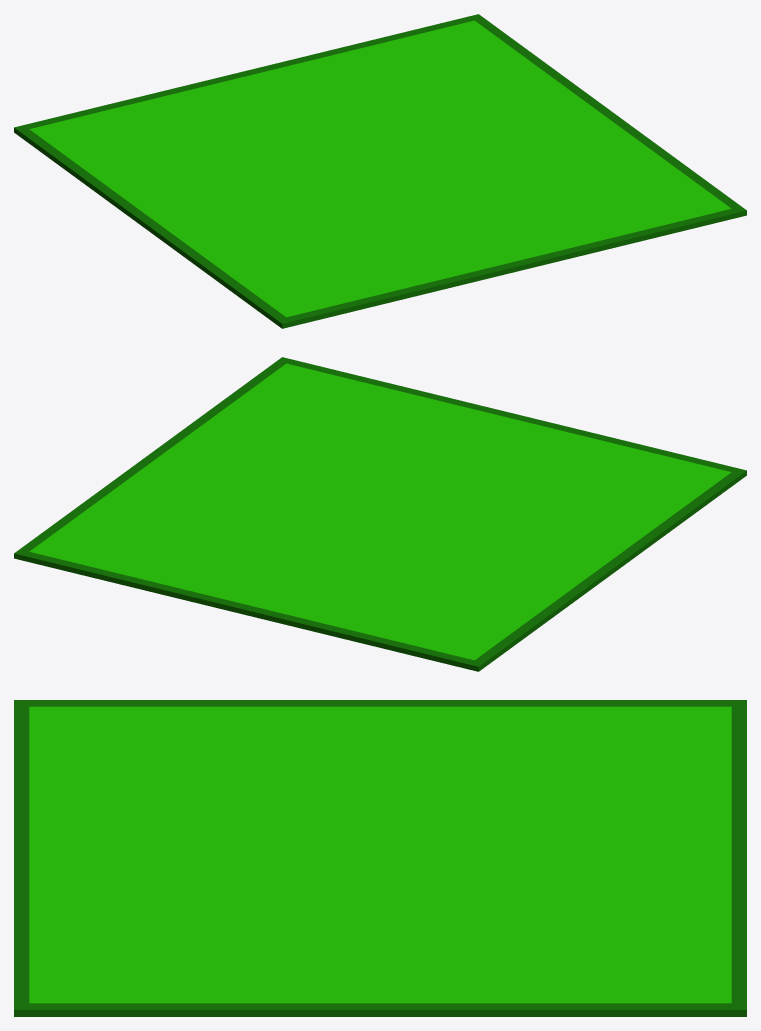
File: plot-4.obj
The picture shows the model from 3 angles, top to bottom: view 1: azimuth 30°, elevation 25°; view 2: azimuth 150°, elevation 25°; view 3: azimuth 270°, elevation 25°; orthographic projection. The views are drawn at different scales.
Bounding box in the file's own units: 9.6 × 0.1 × 9.6.
1 material, 1 textured.
